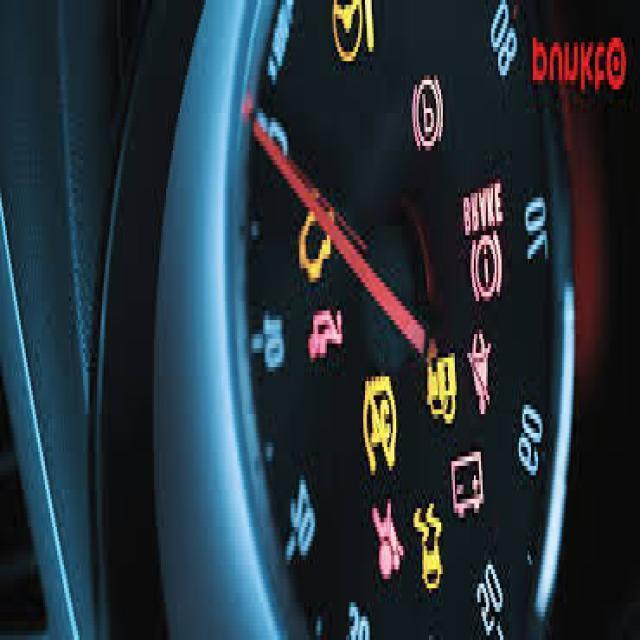Electronic Power Steering: (328, 0, 376, 63)
Seat Belt: (467, 332, 495, 412)
